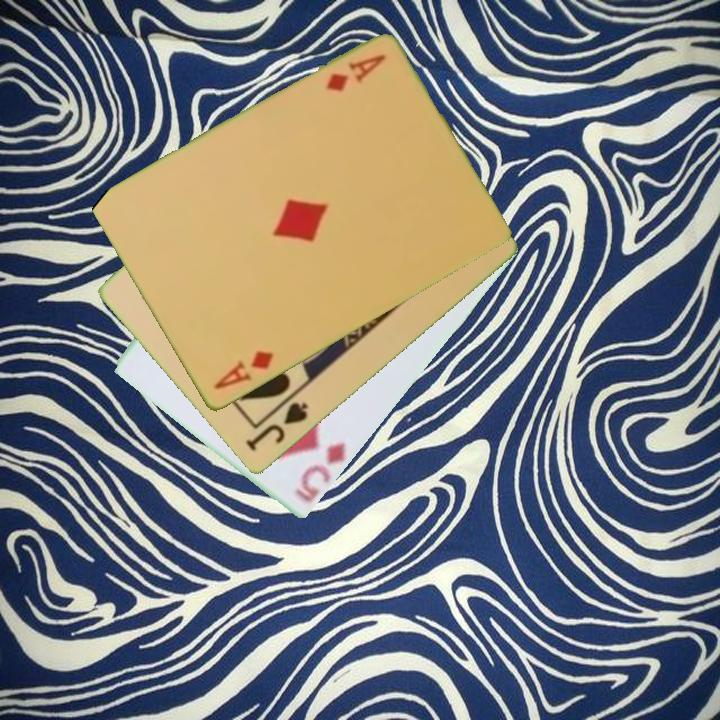5d: (291, 440, 349, 506)
Ad: (210, 347, 277, 393), (322, 51, 389, 96)
Js: (242, 399, 311, 455)
